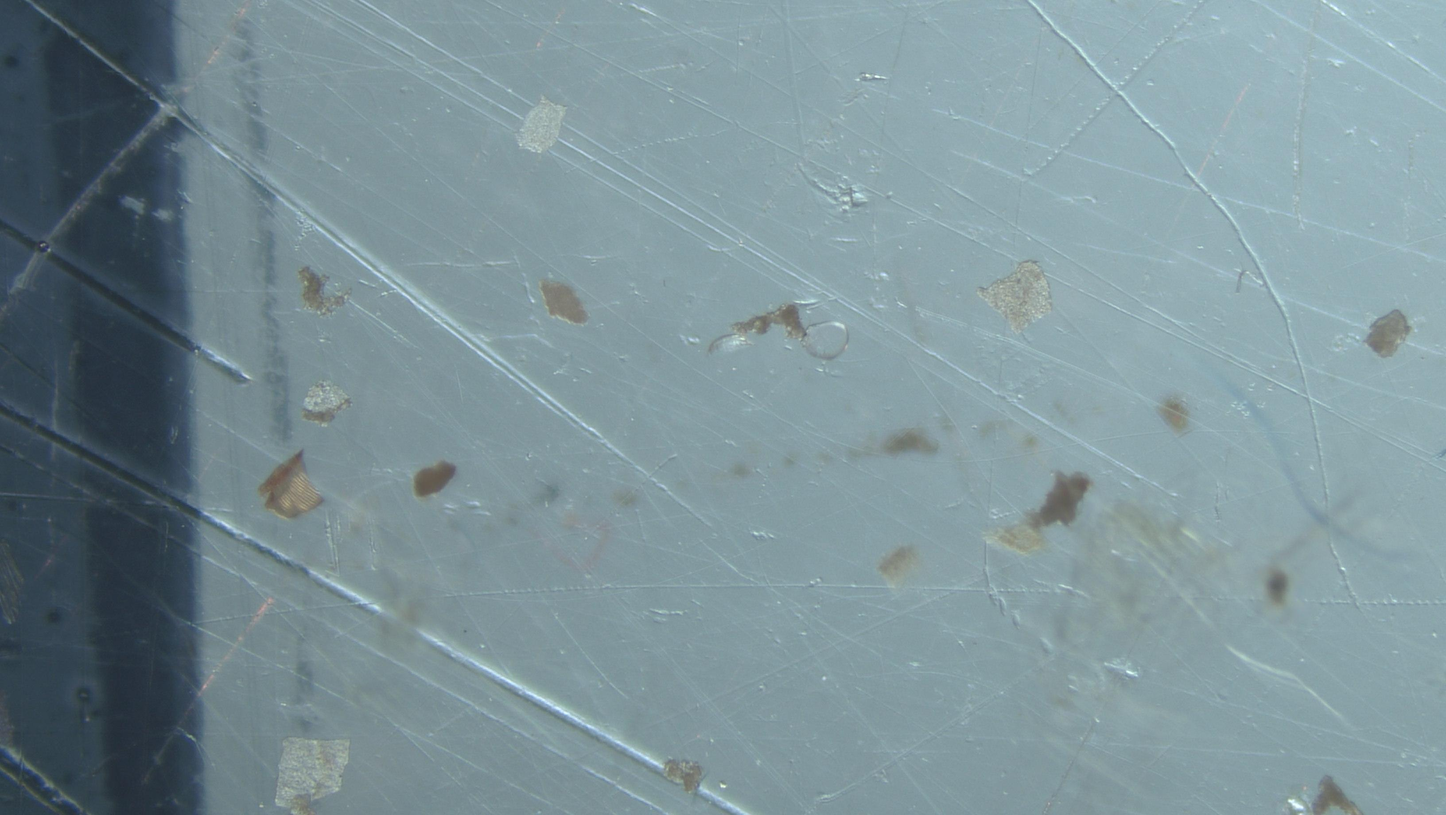dead: (801, 321, 850, 361)
